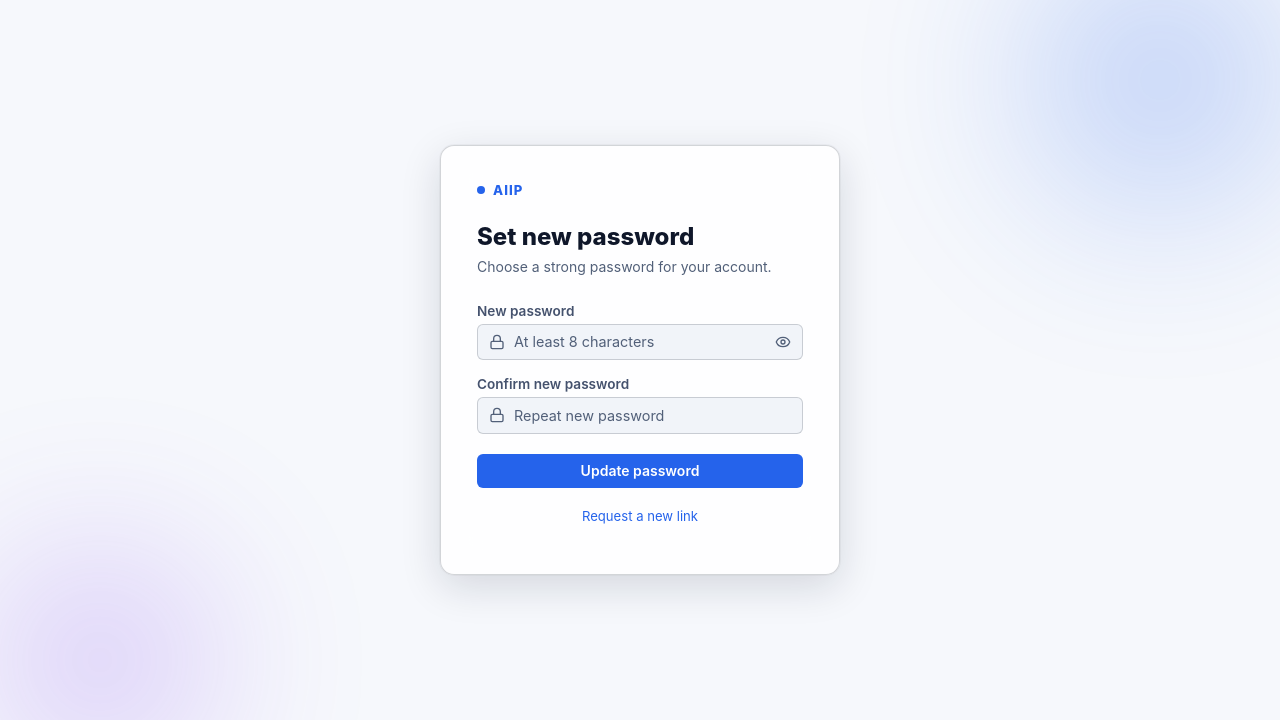
Test: ResetPasswordPage › shows a success screen with a link to log in after a successful reset
Type "NewPassword1!" into the password field labelled "New password". click: point(640, 342)
box: [477, 324, 803, 360]
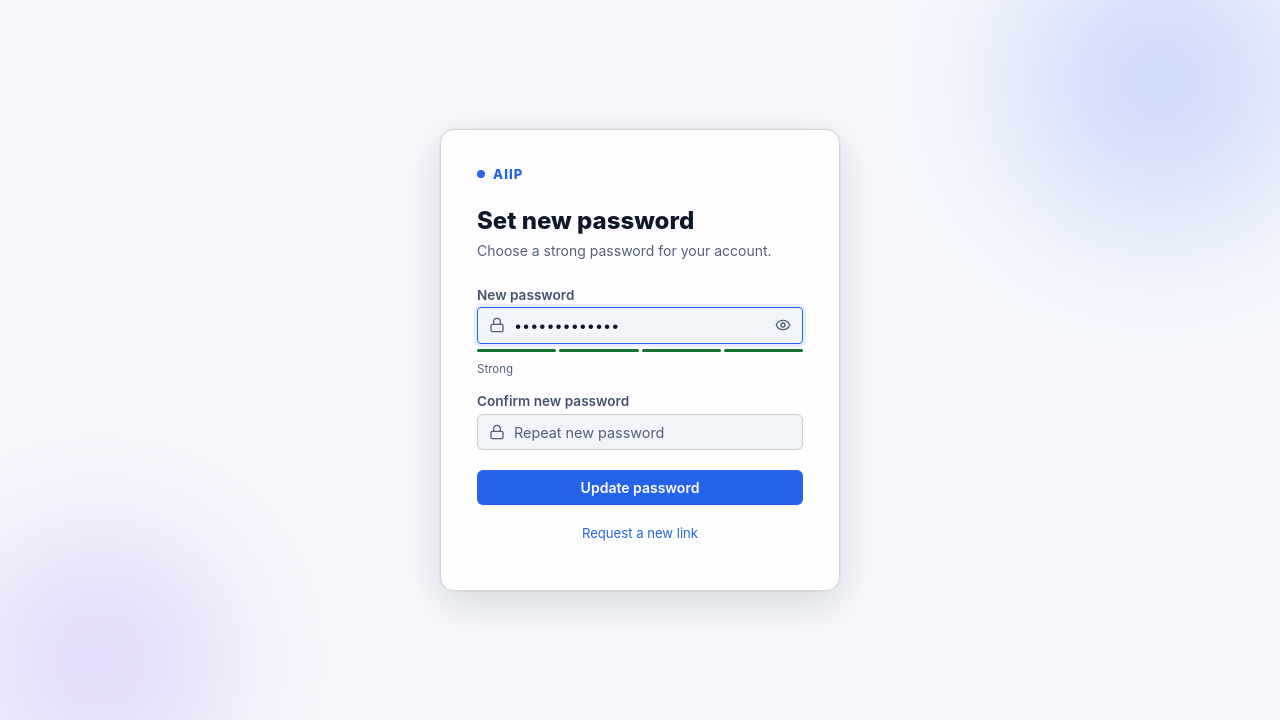
Type "NewPassword1!" into the password field labelled "Confirm new password". click: point(640, 432)
box: [477, 414, 803, 450]
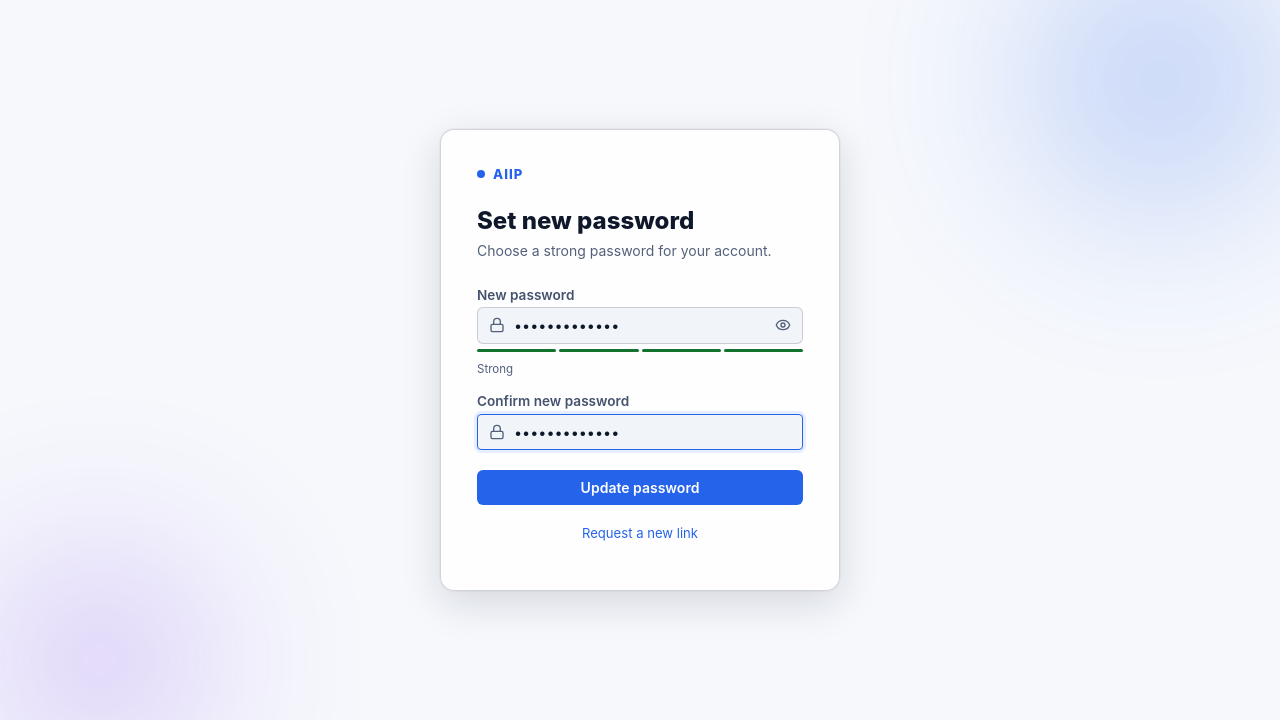
Click the button "Update password". click: point(640, 488)
box: [477, 470, 803, 505]
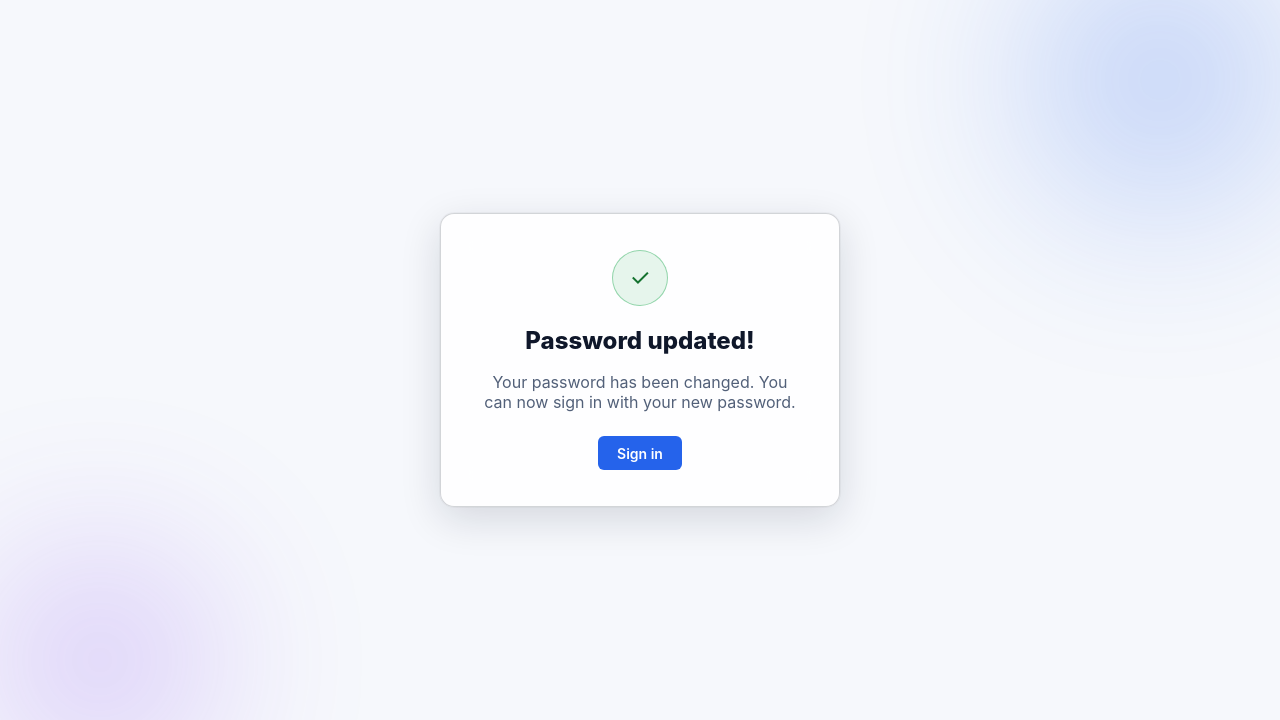
Check: the heading "Password updated!" is shown, box [525, 326, 755, 355]
Check: the link "Sign in" is shown, box [598, 436, 682, 470]
